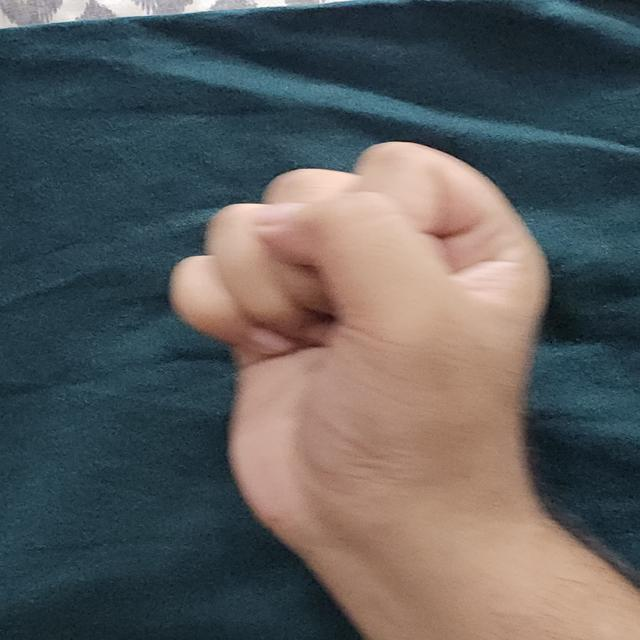ث: (147, 124, 595, 602)
